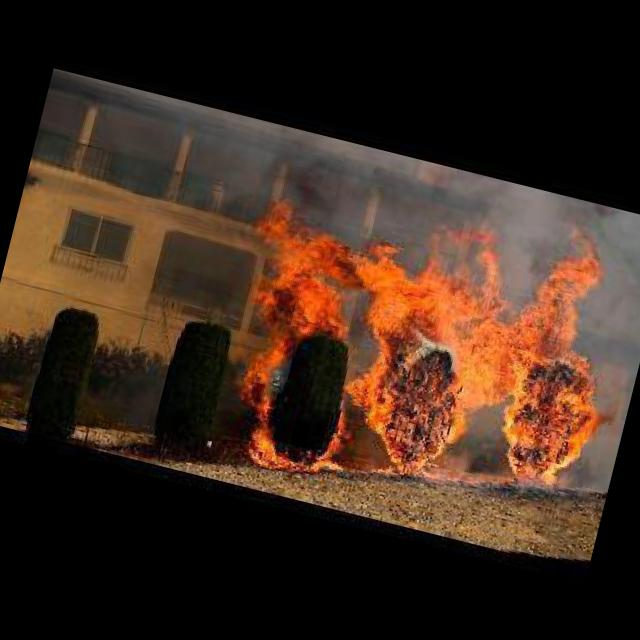Fire: (213, 172, 640, 531)
